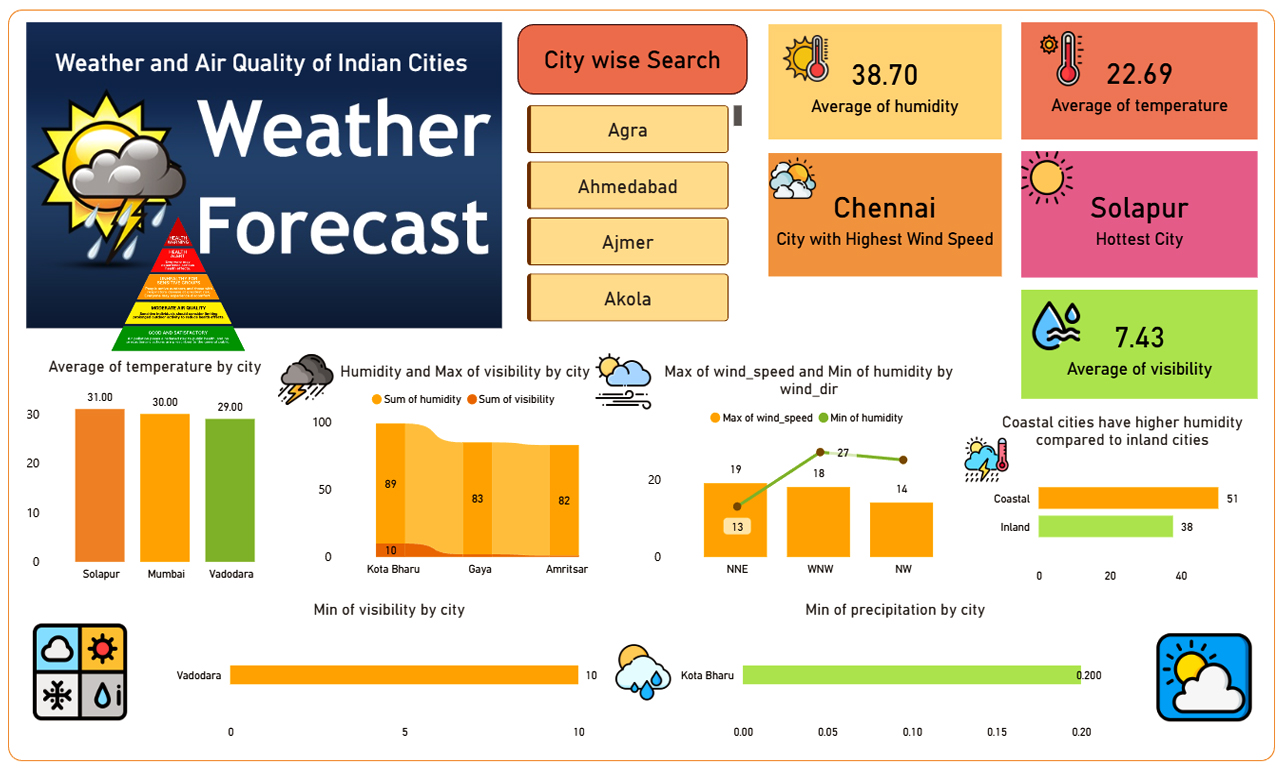

Layout of this report page (visuals, bound fields, positions):
{"tool":"powerbi","page":{"name":"Page 1","canvas":[1300,760],"ordinal":0},"visuals":[{"type":"image","box":[23.9,25.8,489.1,299.6],"z":0},{"type":"image","box":[104.3,216.3,154.1,132.1],"z":1000},{"type":"card","fields":{"Values":["Avg(indian_weather_data.temperature)"]},"box":[1030.9,25.8,238.3,114.9],"z":2000},{"type":"card","fields":{"Values":["indian_weather_data.Hottest City"]},"box":[1030.9,152.2,238.3,124.4],"z":3000},{"type":"card","fields":{"Values":["Avg(indian_weather_data.humidity)"]},"box":[776.3,27.8,234.5,112.9],"z":4000},{"type":"card","fields":{"Values":["indian_weather_data.City with Highest Wind Speed"]},"box":[776.3,154.1,234.5,120.6],"z":5000},{"type":"card","fields":{"Values":["Avg(indian_weather_data.visibility)"]},"box":[1030.9,288.1,238.3,107.2],"z":6000},{"type":"columnChart","fields":{"Category":["indian_weather_data.city"],"Y":["Avg(indian_weather_data.temperature)"]},"box":[23.9,353.2,269,228.8],"z":7000},{"type":"ribbonChart","title":"Humidity and Max of visibility by city","fields":{"Category":["indian_weather_data.city"],"Y":["Sum(indian_weather_data.humidity)","Sum(indian_weather_data.visibility)"]},"box":[311.1,358,319.7,219.2],"z":8000},{"type":"lineClusteredColumnComboChart","fields":{"Category":["indian_weather_data.wind_dir"],"Y":["Max(indian_weather_data.wind_speed)"],"Y2":["Min(indian_weather_data.humidity)"]},"box":[649.9,358,334.1,219.2],"z":9000},{"type":"barChart","title":"Coastal cities have higher humidity compared to inland cities","fields":{"Category":["indian_weather_data.City_Type"],"Y":["indian_weather_data.Avg Humidity by City Type"]},"box":[996.4,407.8,272.8,174.2],"z":10000},{"type":"barChart","fields":{"Category":["indian_weather_data.city"],"Y":["Min(indian_weather_data.visibility)"]},"box":[174.2,591.5,440.3,143.6],"z":11000},{"type":"barChart","title":"Min of precipitation by city","fields":{"Category":["indian_weather_data.city"],"Y":["Min(indian_weather_data.precip)"]},"box":[681.5,591.5,445.1,143.6],"z":12000},{"type":"image","box":[783.9,38.3,60.3,45.9],"z":13000},{"type":"image","box":[1041.4,34.5,61.3,53.6],"z":14000},{"type":"image","box":[1030.9,152.2,51.7,51.7],"z":15000},{"type":"image","box":[777.2,152.2,46.9,52.6],"z":16000},{"type":"image","box":[1038.5,293.9,54.6,59.3],"z":17000},{"type":"image","box":[35.4,615.5,94.8,95.7],"z":18000},{"type":"image","box":[1161.1,615.5,108.2,95.7],"z":19000},{"type":"image","box":[622.2,630.8,55.5,65.1],"z":20000},{"type":"image","box":[282.4,344.6,56.5,63.2],"z":21000},{"type":"image","box":[602.1,348.4,55.5,59.3],"z":22000},{"type":"image","box":[973.5,427.9,45,52.6],"z":23000},{"type":"advancedSlicerVisual","fields":{"Values":["indian_weather_data.city"]},"box":[528.4,102.4,226.9,223],"z":24000},{"type":"shape","box":[523.6,27.8,231.6,68.9],"z":25000},{"type":"shape","box":[35.4,32.5,460.4,64.1],"z":25001},{"type":"shape","box":[10.5,13.4,1275.9,737],"z":25002}]}

Visuals, with their boxes in screenshot pixels (x1, y1, x2, y2), scaled from the page's 1300x760 canvas onto the 1285x768 screenshot:
image: 24 26 507 329
image: 103 219 255 352
card - Avg(indian_weather_data.temperature): 1019 26 1255 142
card - indian_weather_data.Hottest City: 1019 154 1255 280
card - Avg(indian_weather_data.humidity): 767 28 999 142
card - indian_weather_data.City with Highest Wind Speed: 767 156 999 278
card - Avg(indian_weather_data.visibility): 1019 291 1255 399
columnChart - indian_weather_data.city x Avg(indian_weather_data.temperature): 24 357 290 588
"Humidity and Max of visibility by city" ribbonChart: 308 362 624 583
lineClusteredColumnComboChart - indian_weather_data.wind_dir x Max(indian_weather_data.wind_speed): 642 362 973 583
"Coastal cities have higher humidity compared to inland cities" barChart: 985 412 1255 588
barChart - indian_weather_data.city x Min(indian_weather_data.visibility): 172 598 607 743
"Min of precipitation by city" barChart: 674 598 1114 743
image: 775 39 834 85
image: 1029 35 1090 89
image: 1019 154 1070 206
image: 768 154 815 207
image: 1027 297 1080 357
image: 35 622 129 719
image: 1148 622 1255 719
image: 615 637 670 703
image: 279 348 335 412
image: 595 352 650 412
image: 962 432 1007 486
advancedSlicerVisual - indian_weather_data.city: 522 103 747 329
shape: 518 28 746 98
shape: 35 33 490 98
shape: 10 14 1272 758
